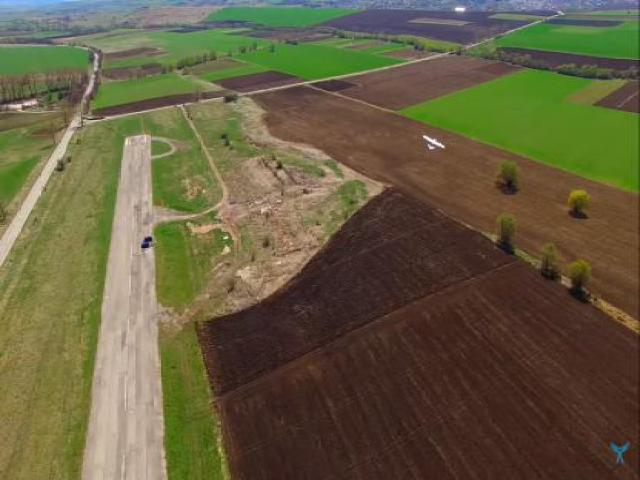uav: (418, 127, 451, 157)
